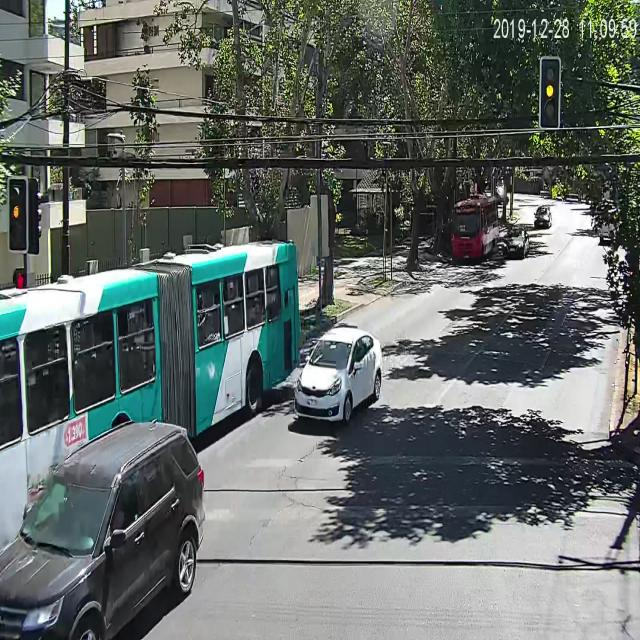AB: (1, 231, 304, 558)
